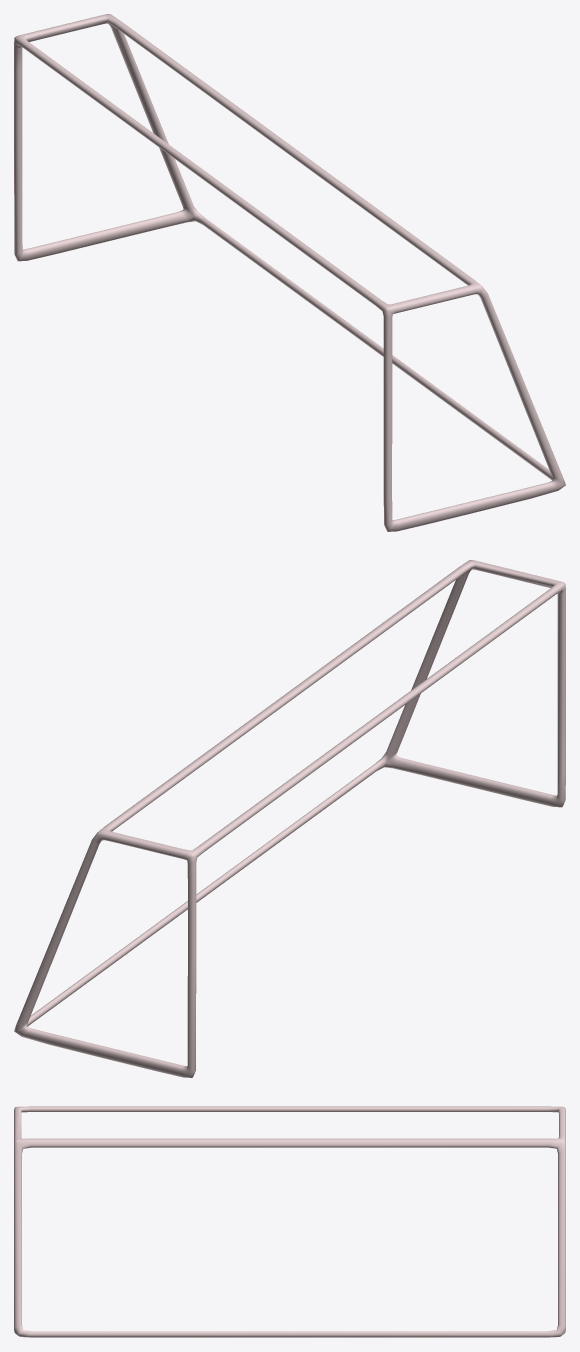
Rendered from stadium_goal.dae.
3 renders of one model, top to bottom at view 1: azimuth 30°, elevation 25°; view 2: azimuth 150°, elevation 25°; view 3: azimuth 270°, elevation 25°, orthographic. The views are drawn at different scales.
Parts seen in each view (by area): view 1: Goal_Post_White Metal_0; view 2: Goal_Post_White Metal_0; view 3: Goal_Post_White Metal_0.
Boxes of the visible parts, x1,y1,x2,y2 form: Goal_Post_White Metal_0: (14,14,565,531); Goal_Post_White Metal_0: (14,560,565,1077); Goal_Post_White Metal_0: (14,1106,565,1337).
Size of the model in its own units: 2.07 by 7.32 by 2.45.
